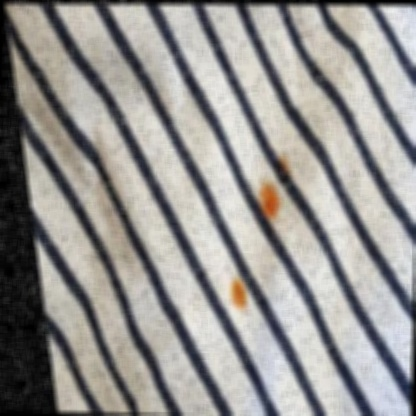kimchi: (256, 178, 286, 219), (227, 278, 247, 314), (278, 153, 296, 168)
